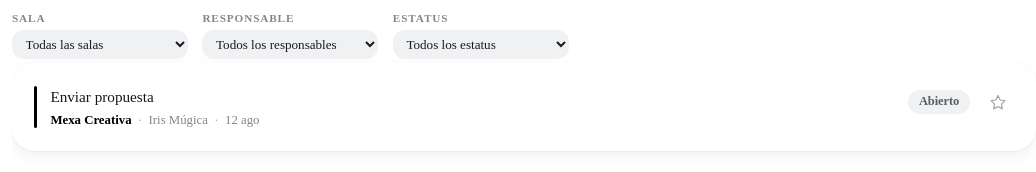
Test: TablaAcuerdos, filtros › sin coincidencias lo dice distinto de "no hay acuerdos"
Select "Iris Múgica" in the dropdown labelled "Responsable". click: point(290, 44)
box: [202,30,378,59]
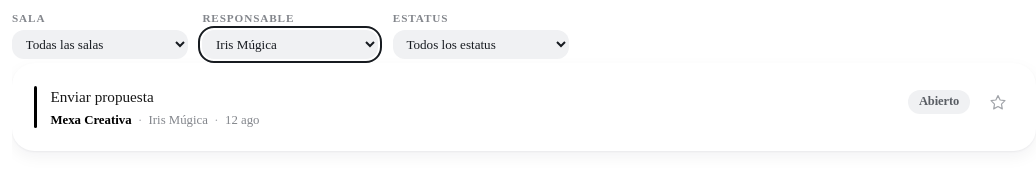
Select "Vencido" in the dropdown labelled "Estatus". click: point(481, 44)
box: [393,30,569,59]
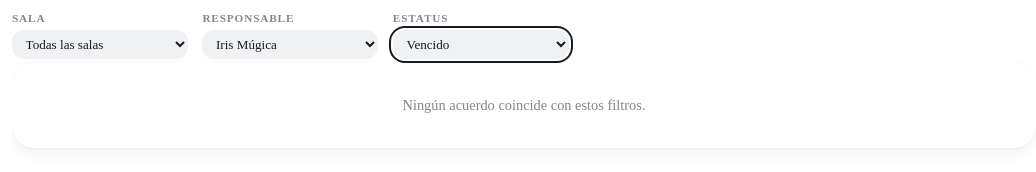
Result: the text "Ningún acuerdo coincide con estos filtros." is shown at [402,96,646,112]
